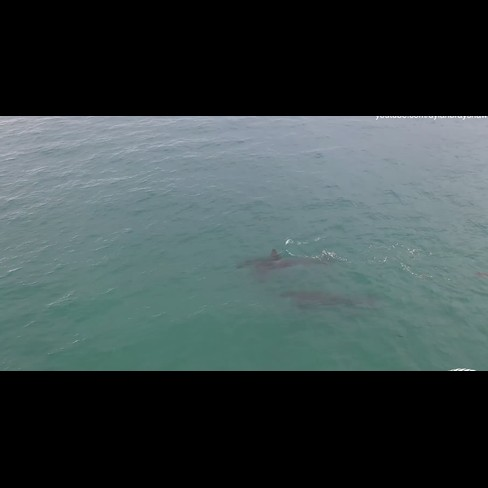orca: (227, 245, 344, 284)
